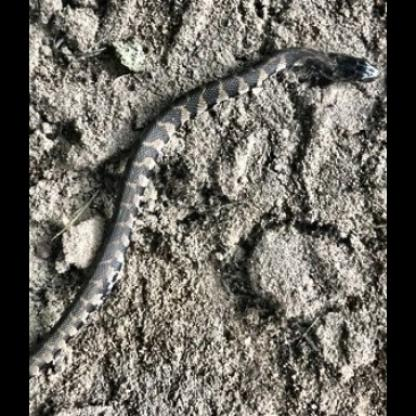Snake: (48, 42, 385, 360)
